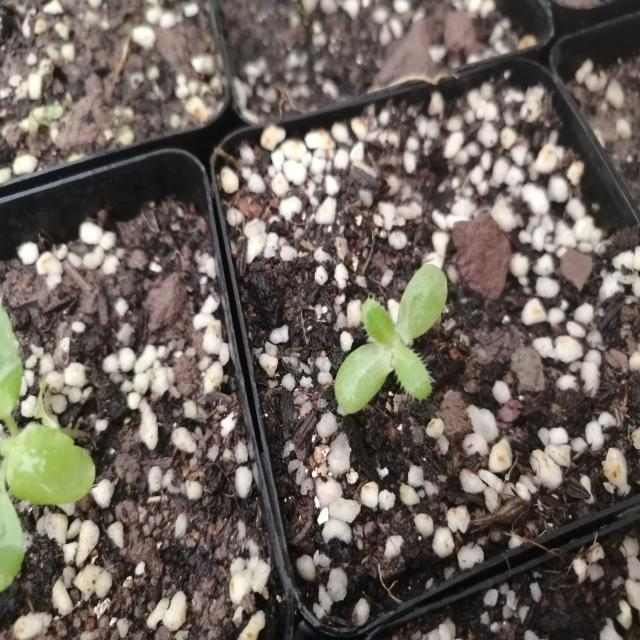field_thistle: (316, 257, 466, 453)
